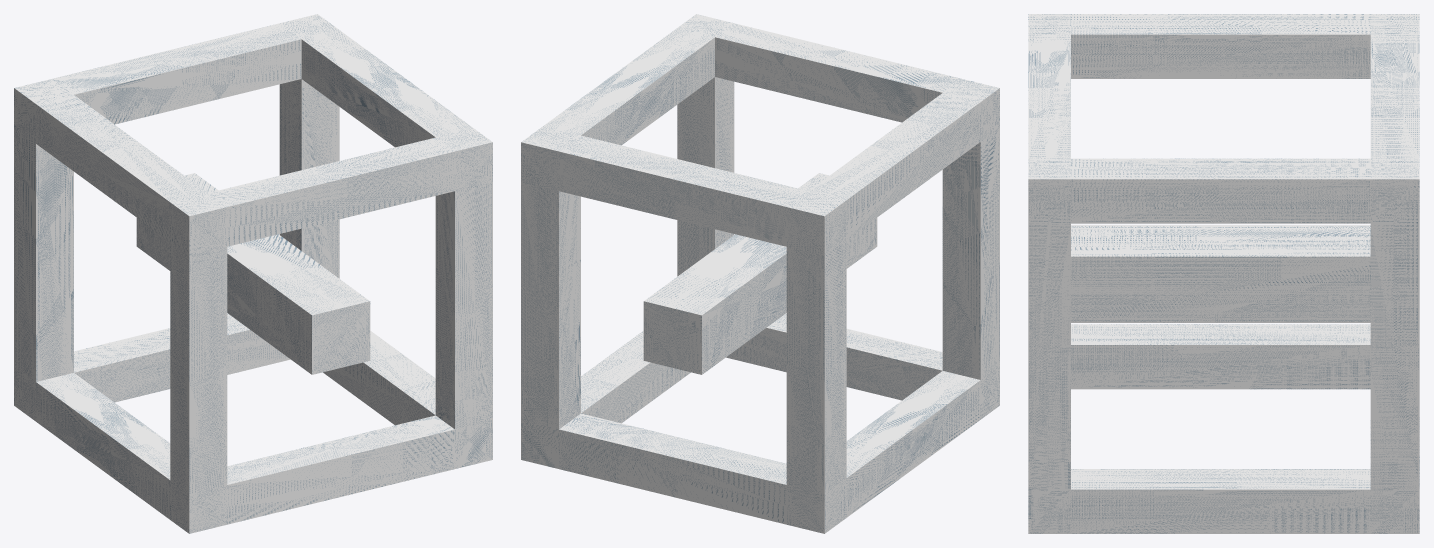
3 views of the same model, side by side, from view 1: azimuth 30°, elevation 25°; view 2: azimuth 150°, elevation 25°; view 3: azimuth 270°, elevation 25° (orthographic). The views are drawn at different scales.
Visible parts, largest first — view 1: Model; view 2: Model; view 3: Model.
Boxes of the visible parts, x1,y1,x2,y2 form: Model: [14, 14, 492, 533]; Model: [521, 14, 999, 533]; Model: [1028, 14, 1419, 533].
Bounding box in the file's own units: 8.24 × 8.24 × 8.24.
